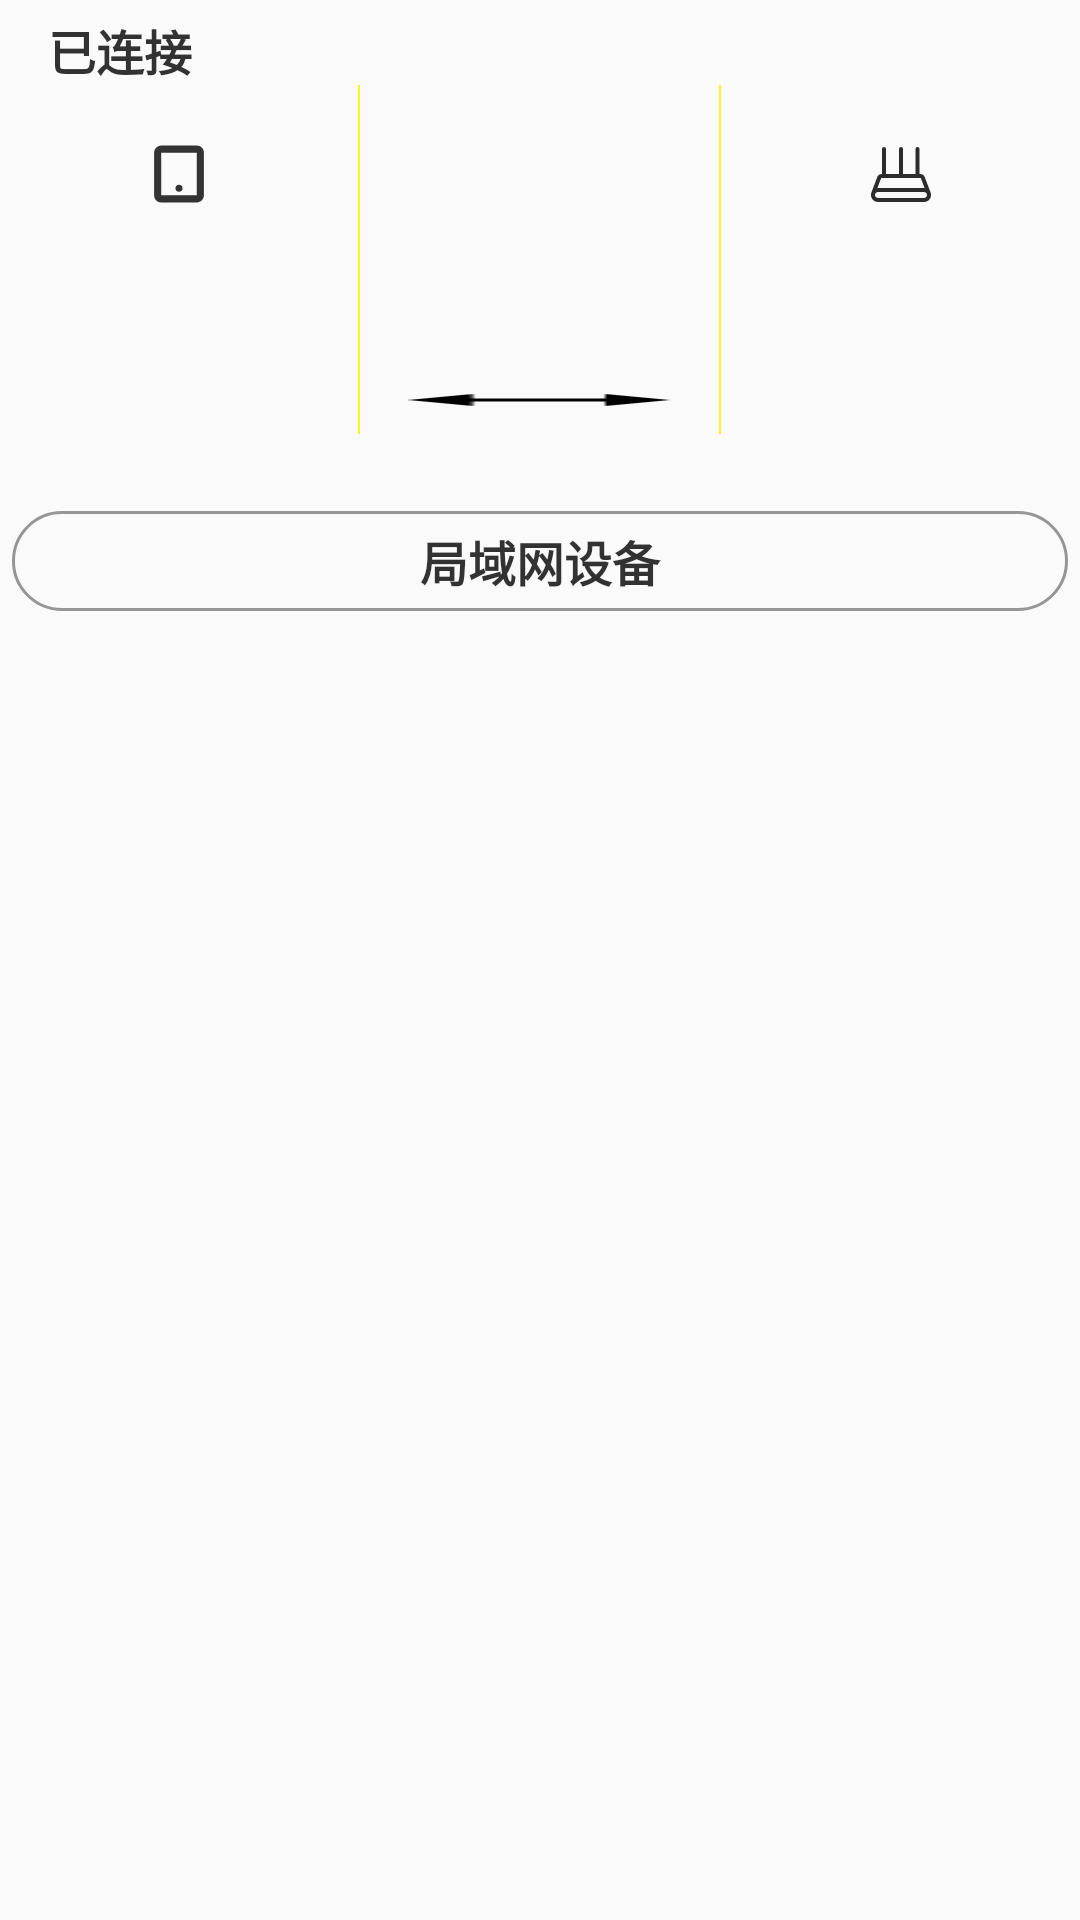

Icons on this 1080px×1920px Android screen, each with the point to tap as (x=x, y=y):
mobile device: (x=179, y=174)
router: (x=901, y=174)
